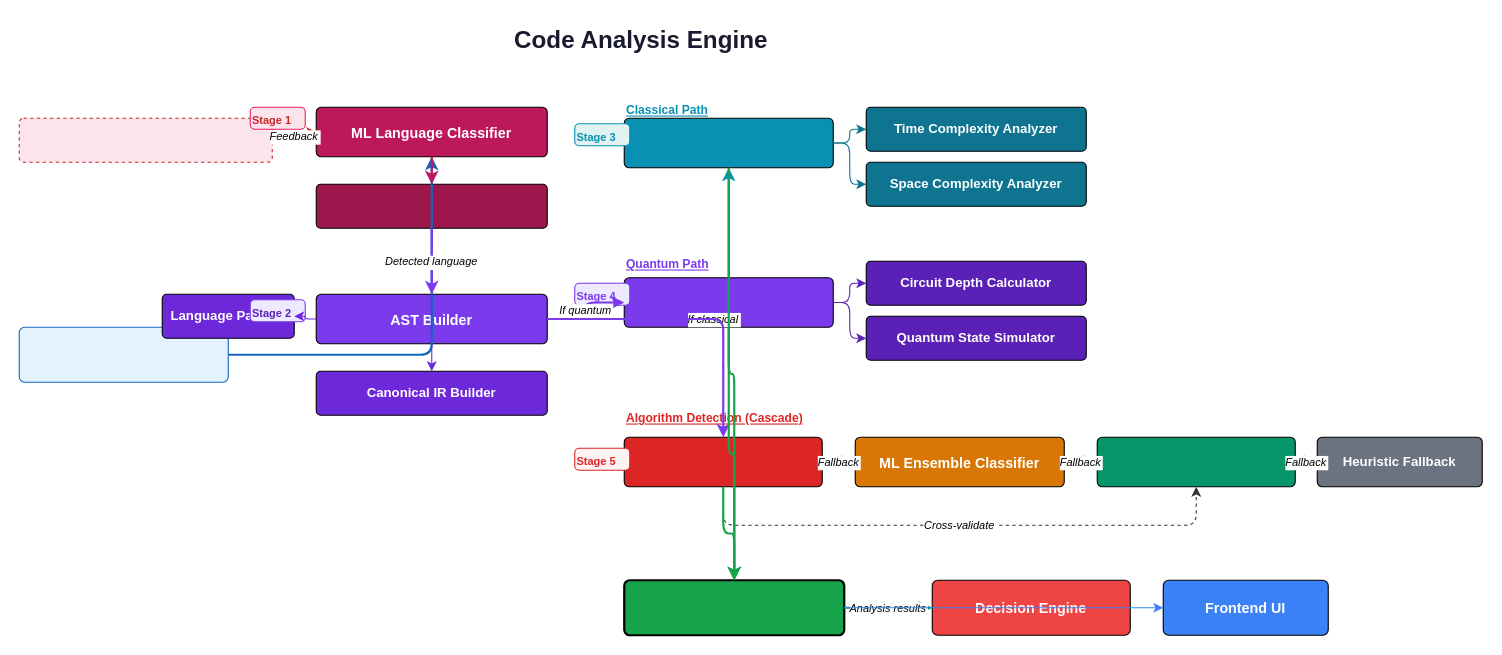
Image size: 1502x655. Some labels were removed from this diagram. The centre of each missing label's shape, as x and y in pixels:
"Code Analysis Result" goes at [734,607].
"CodeBERT Classifier" goes at [722,461].
"Complexity Analyzer" goes at [728,142].
"Continuous Learning Manager" goes at [145,139].
"Quantum Analyzer" goes at [728,302].
"Rule-Based Detector" goes at [1195,461].
"Source Code Input" goes at [123,354].
"Supported Language Resolver" goes at [431,205].
